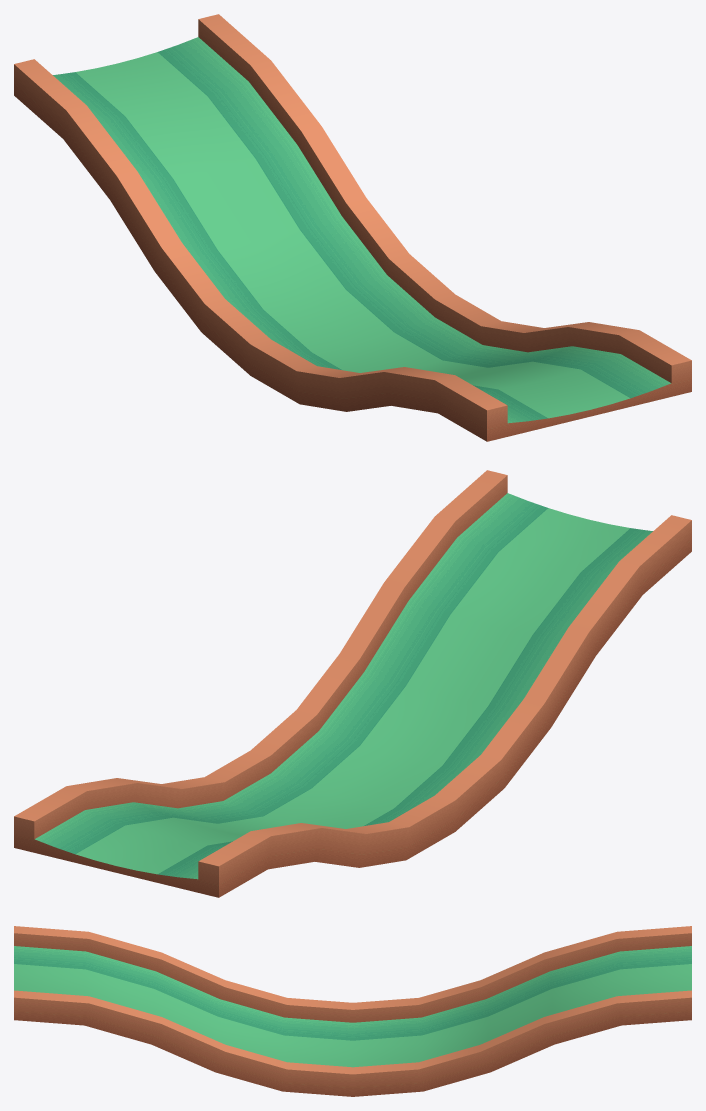
The model's file is spline-concave-straight-bump-down.glb.
3 views of the same model, one above another, from view 1: azimuth 30°, elevation 25°; view 2: azimuth 150°, elevation 25°; view 3: azimuth 270°, elevation 25° (orthographic). The views are drawn at different scales.
Visible parts, largest first — view 1: spline-concave-straight-bump-down; view 2: spline-concave-straight-bump-down; view 3: spline-concave-straight-bump-down.
Part boxes in pixels (<box>): spline-concave-straight-bump-down: <box>14,14,691,441</box>; spline-concave-straight-bump-down: <box>14,470,691,897</box>; spline-concave-straight-bump-down: <box>14,926,691,1096</box>.
Bounding box in the file's own units: 0.9999 × 0.6467 × 4.
1 material, 1 textured.
